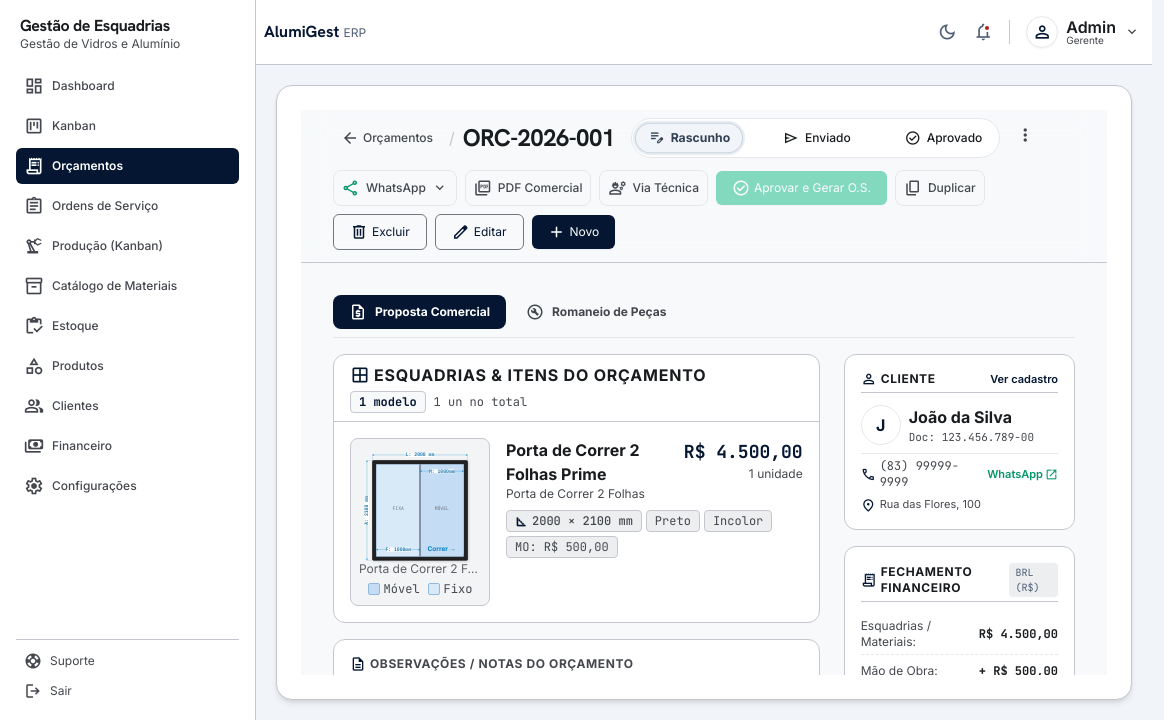
Test: Integridade das Rotas de Orçamentos (AppRoutes) › Fluxos de navegação integrada entre rotas › deve navegar de /orcamentos/:id de volta para /orcamentos ao clicar no link de retorno
// O link de retorno "Orçamentos"
Click the link titled "Voltar aos orçamentos" next to "ORC-2026-001". click: [387, 138]
box: [333,125,441,151]
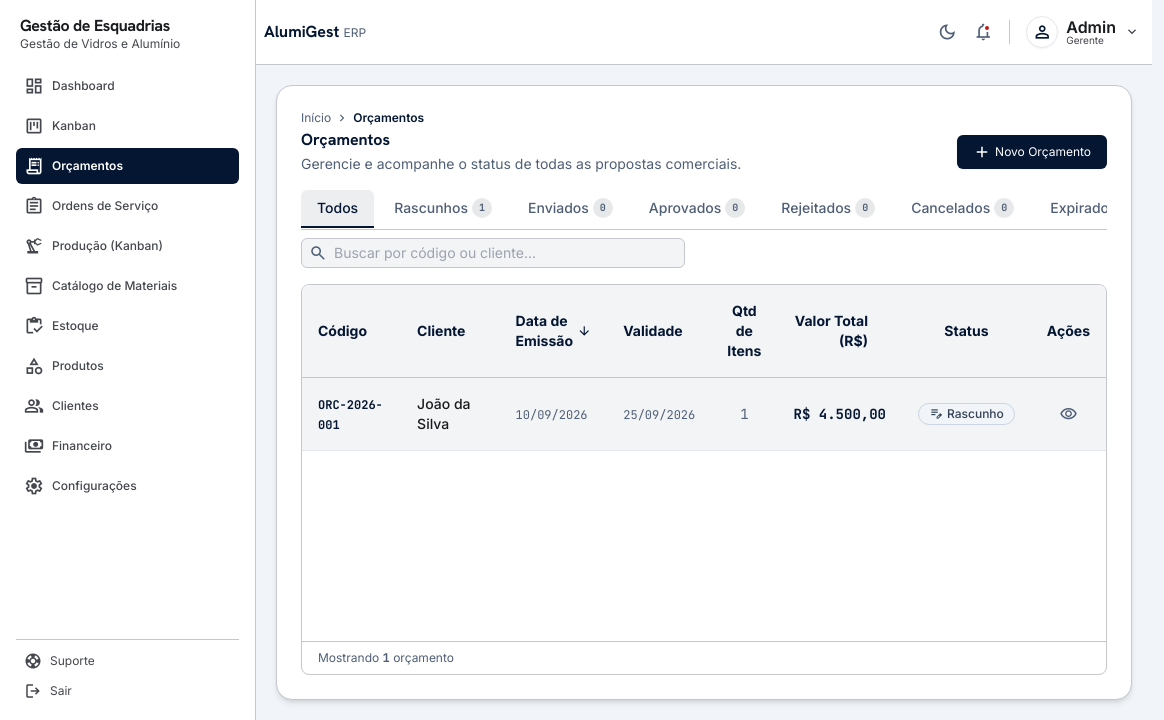
Expected: the heading "Orçamentos" is shown, [301,129,390,150]
